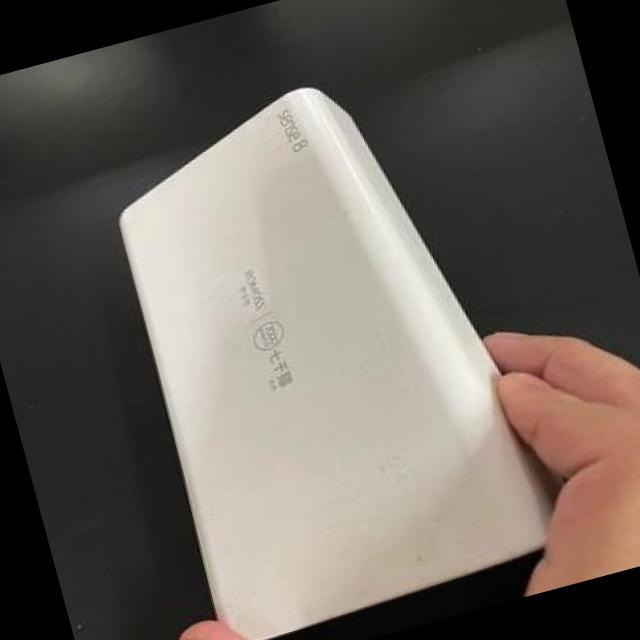portable-charger: (81, 39, 586, 640)
